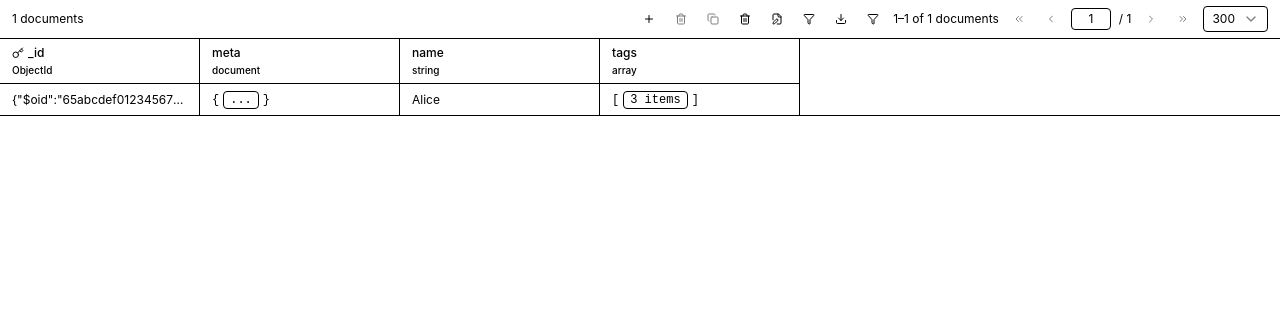
DocumentDataGrid — nested inline tree (Sprint 341 Option D) › clicking the toggle expands the inline tree row, second click collapses
Expected: the text "Alice" is shown, [412,92,440,108]
Click the button named "Expand meta". click: click(241, 100)
box: [223,90,259,108]
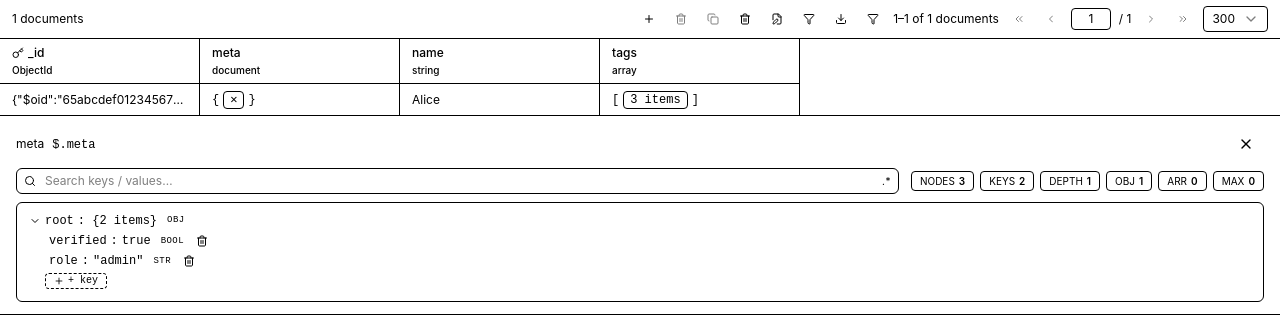
Expected: the row with test id "nested-detail-row-0" is shown
Expected: the list item with test id "tree-node-verified" is shown, [49,233,208,249]
Expected: the list item with test id "tree-node-role" is shown, [49,253,195,269]
Click the button named "Expand meta". click: click(234, 100)
box: [223,90,244,108]
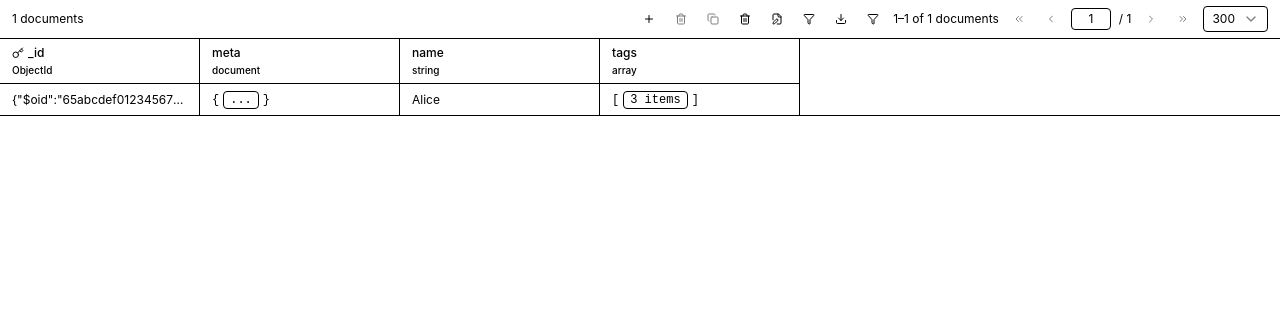
Expected: the row with test id "nested-detail-row-0" is gone
